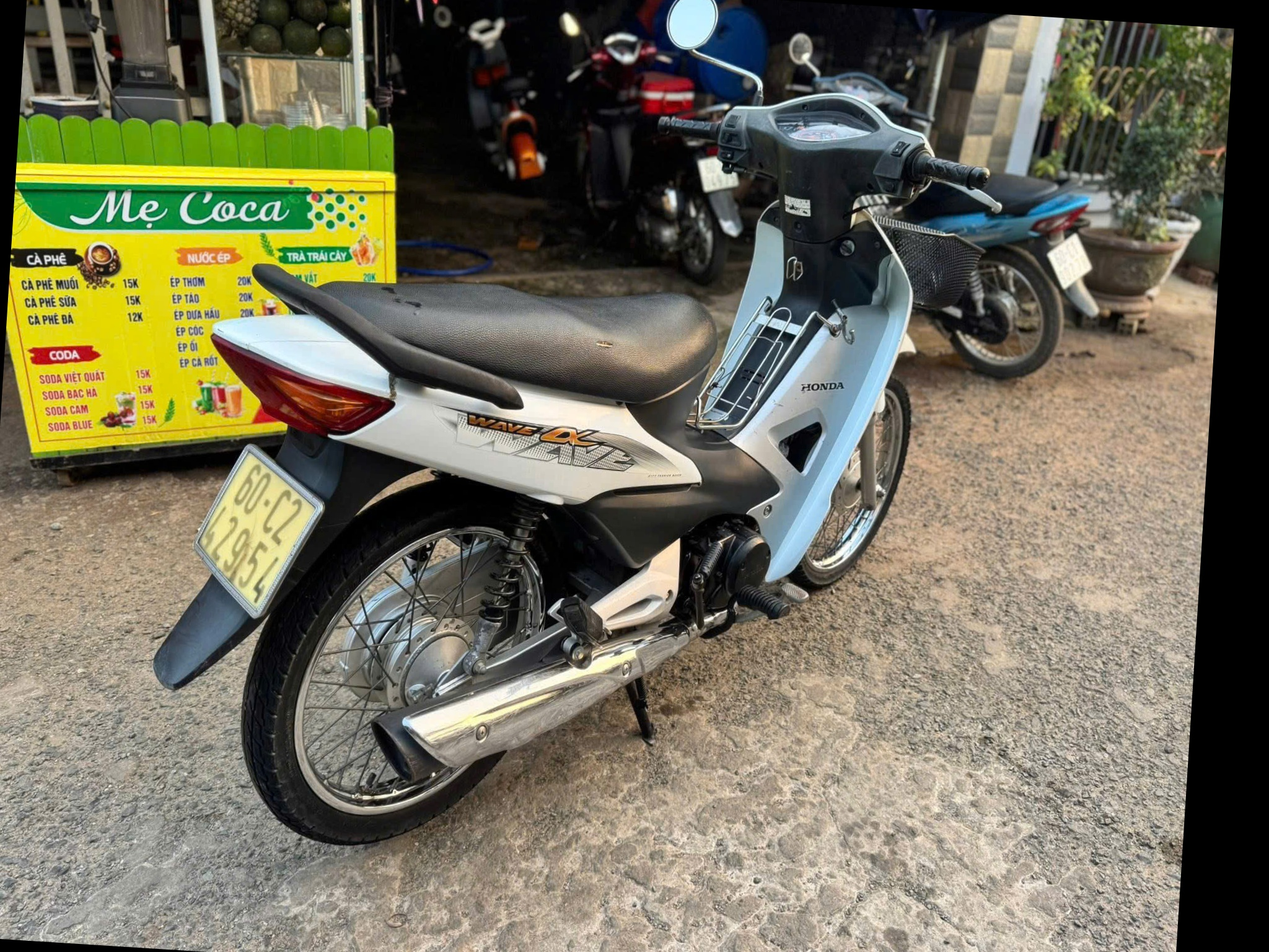Bien-so: (205, 442, 334, 613), (1087, 183, 1142, 246)
